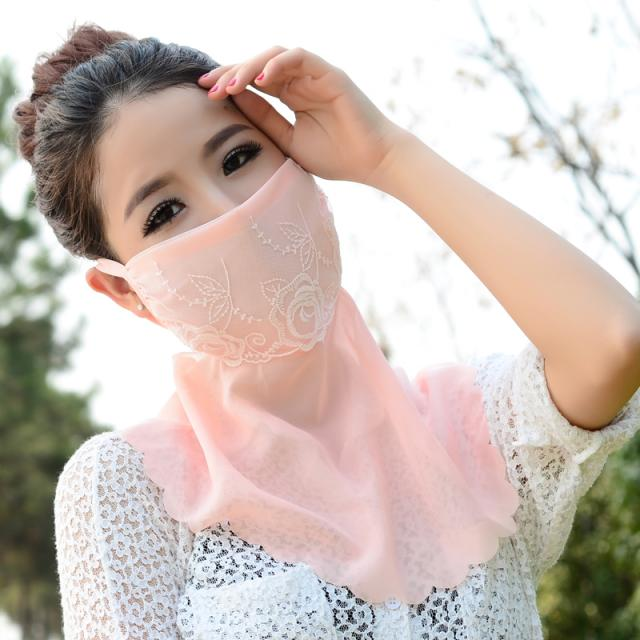mask: (121, 82, 343, 362)
